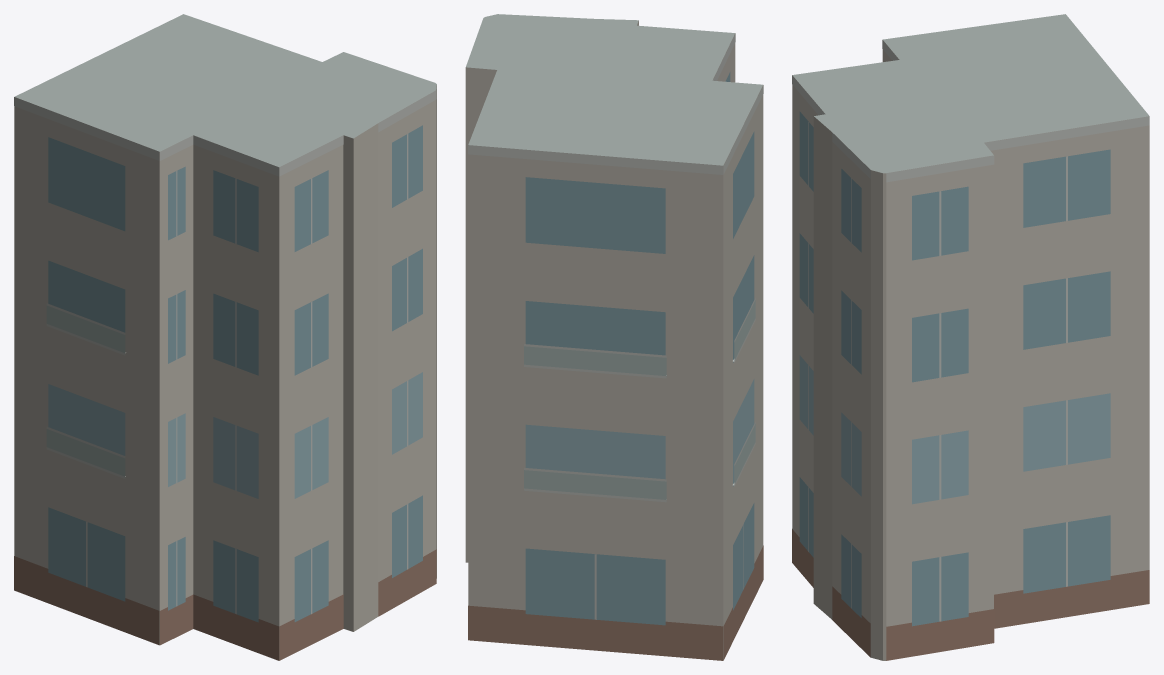
Rendered from survey-upis-32458450.glb.
3 renders of one model, left to right at view 1: azimuth 30°, elevation 25°; view 2: azimuth 150°, elevation 25°; view 3: azimuth 270°, elevation 25°, orthographic.
Visible parts, largest first — view 1: survey-upis-32458450.tmp; view 2: survey-upis-32458450.tmp; view 3: survey-upis-32458450.tmp.
Boxes of the visible parts, left/top/right/bottom form: survey-upis-32458450.tmp: left=14, top=14, right=436, bottom=660; survey-upis-32458450.tmp: left=465, top=14, right=763, bottom=660; survey-upis-32458450.tmp: left=792, top=14, right=1149, bottom=660.
Bounding box in the file's own units: 9.04 × 12.9 × 8.58.
